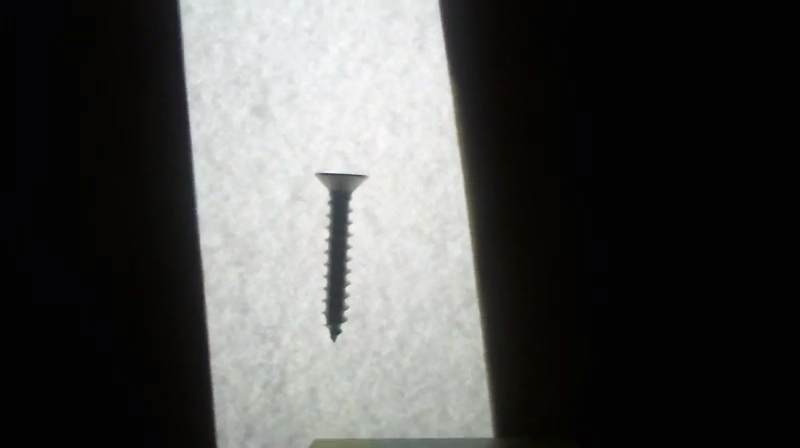S001: (314, 168, 368, 345)
